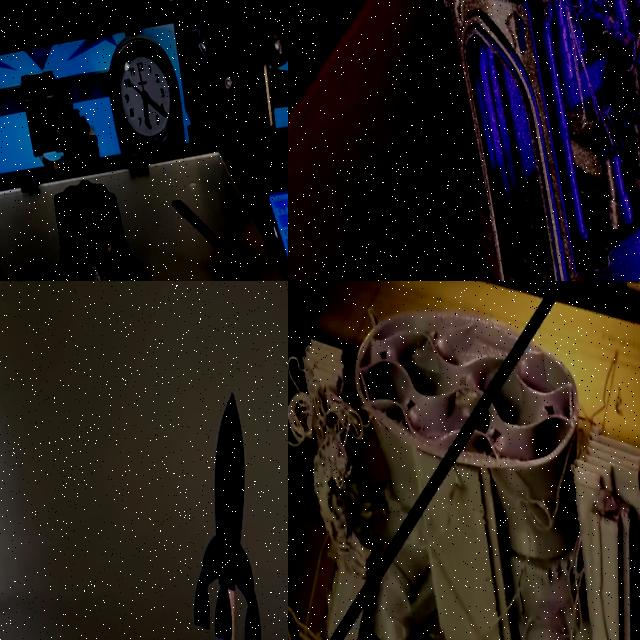spaghetti: (451, 414, 610, 640), (288, 331, 384, 603), (541, 0, 640, 177), (368, 622, 422, 640)
